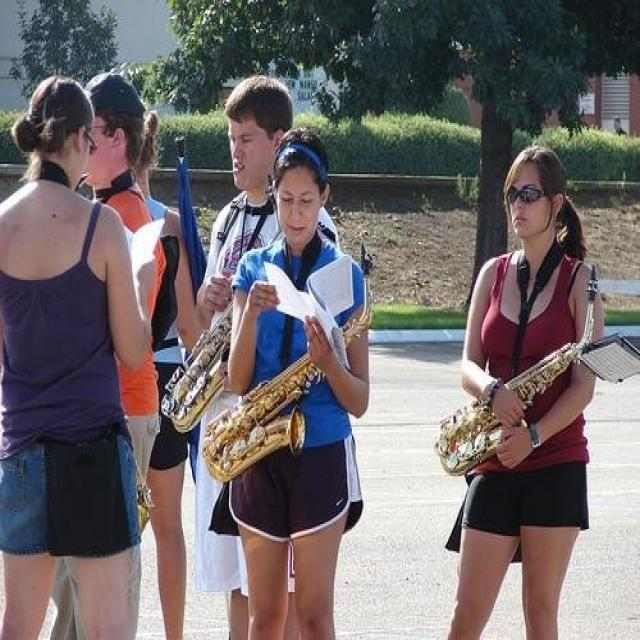saxophone: (201, 238, 373, 483), (434, 263, 600, 477), (160, 298, 237, 432)
